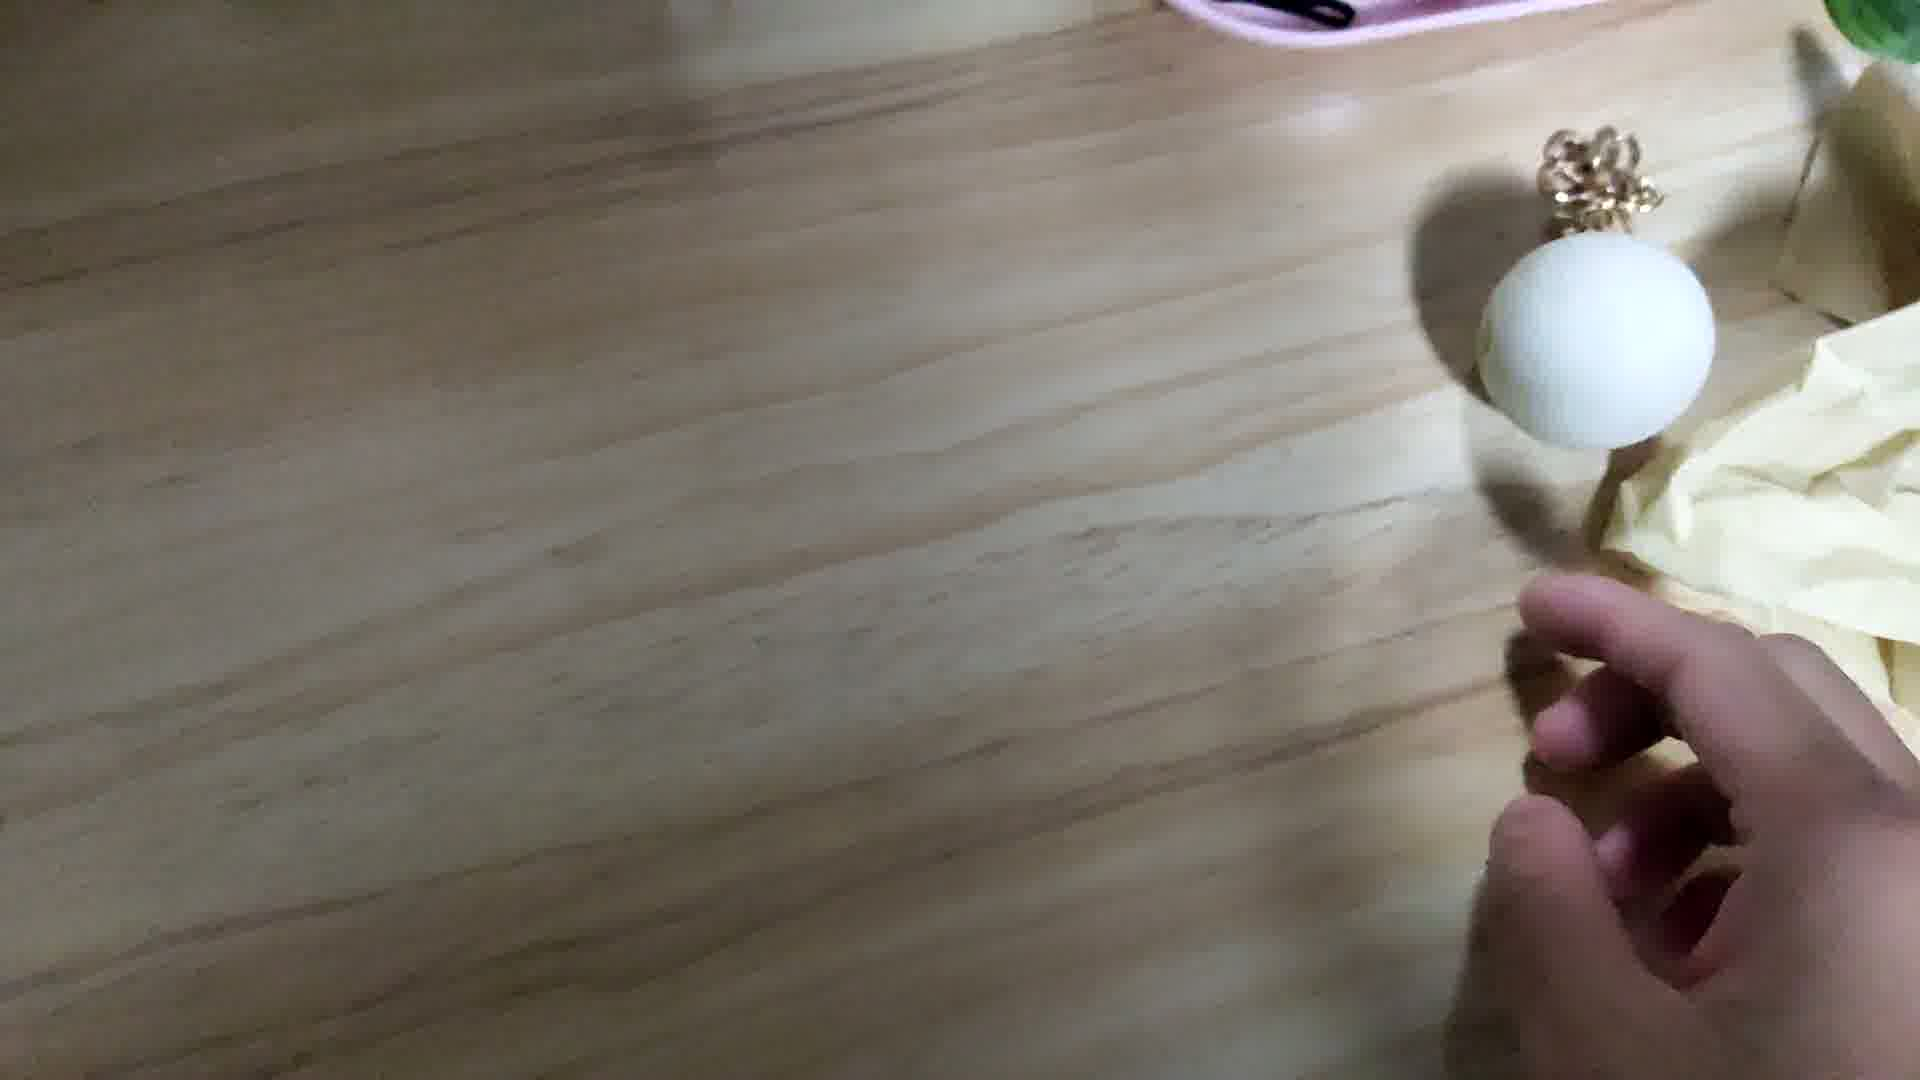Ball: (1480, 229, 1720, 450)
